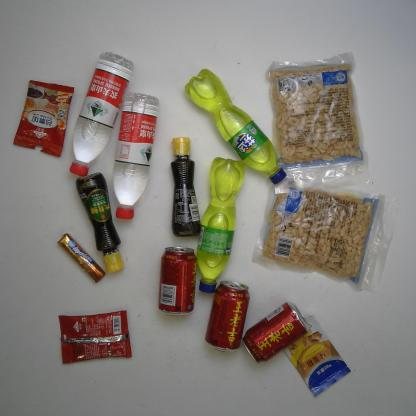Candy: (56, 232, 106, 284)
Dried Fruit: (250, 176, 404, 296), (264, 51, 373, 197)
Drink: (184, 68, 288, 186), (68, 51, 135, 178), (195, 156, 247, 295), (111, 91, 160, 221), (241, 300, 311, 364), (204, 280, 251, 354), (156, 245, 198, 317)
Instant Drink: (12, 78, 77, 159), (57, 309, 133, 364)
Seasoner: (283, 313, 352, 399), (74, 171, 126, 275), (168, 136, 203, 238)
